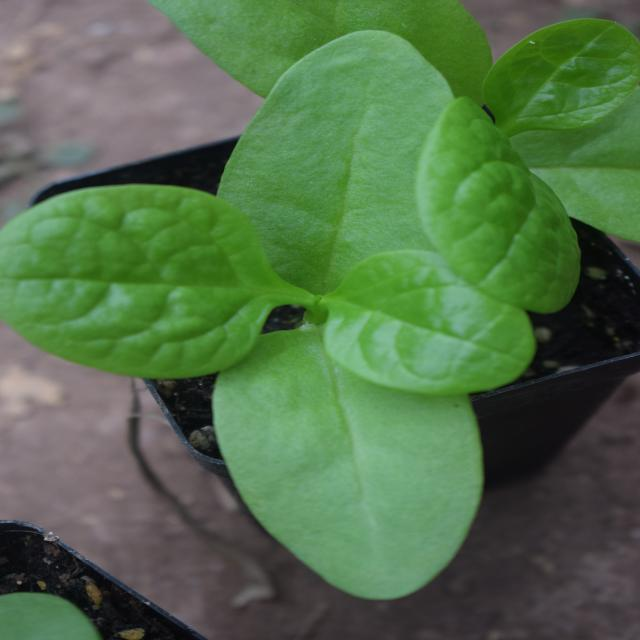Ceylon spinach: (71, 33, 581, 544)
